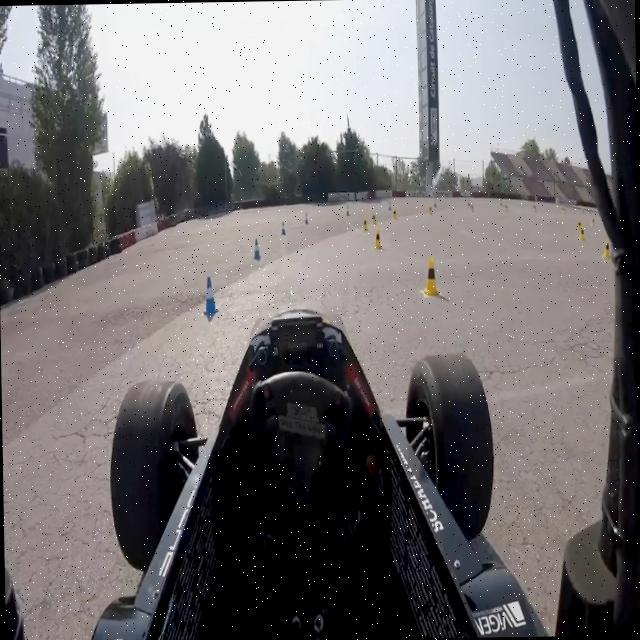blue_cone: (203, 278, 218, 314), (253, 237, 260, 257), (280, 219, 286, 235), (345, 203, 350, 217), (304, 211, 308, 225), (433, 197, 437, 208), (388, 200, 390, 212)
yellow_cone: (422, 256, 440, 296), (600, 236, 612, 258), (372, 226, 382, 252), (578, 225, 584, 242), (362, 216, 368, 232), (370, 210, 376, 226), (576, 218, 582, 232), (391, 206, 397, 219), (590, 216, 596, 227), (428, 204, 432, 218)
